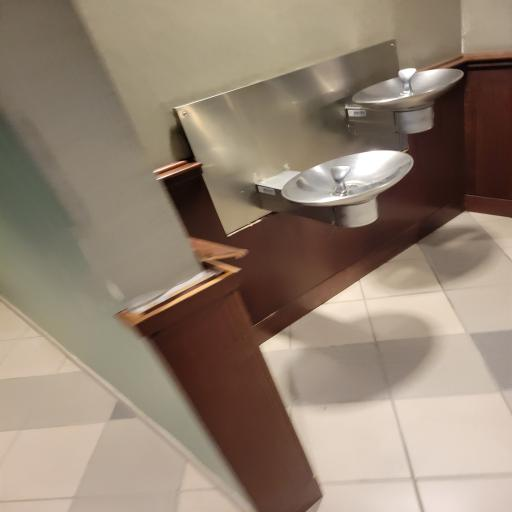water fountain: (238, 144, 426, 234), (340, 57, 470, 141)
